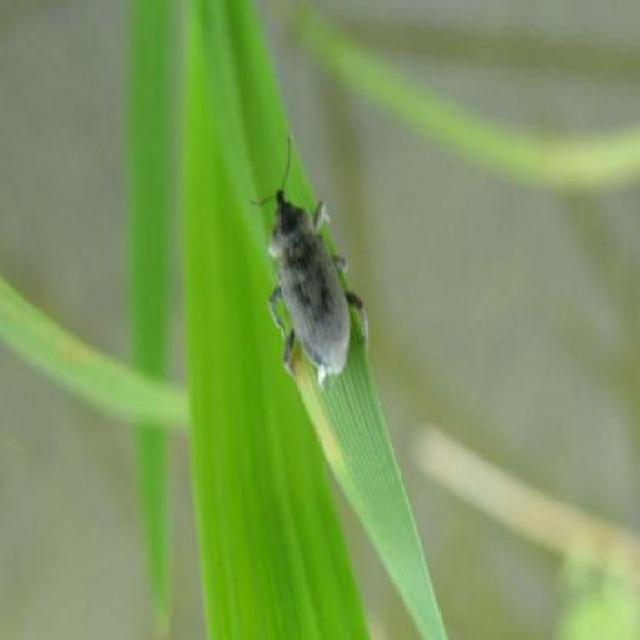rice-bug: (255, 166, 370, 371)
